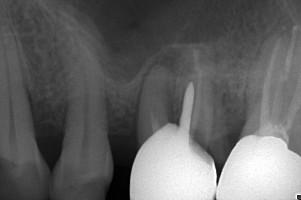Endo-Periodontal Lesion: (166, 90, 179, 125)
